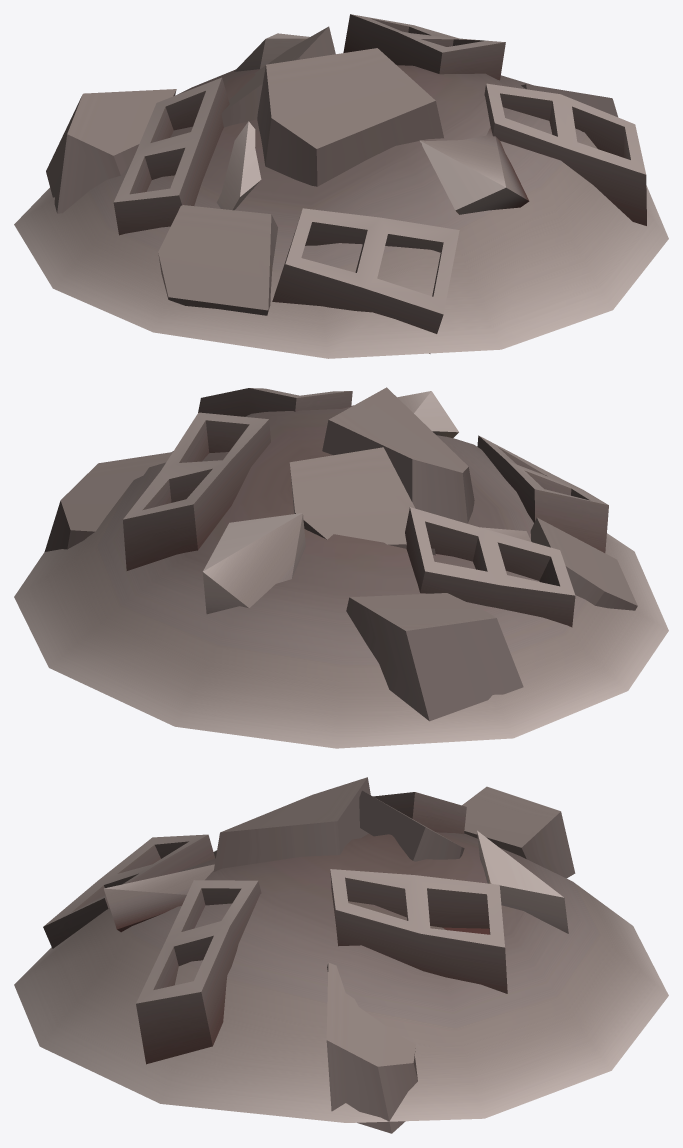
Rendered from SM_ConcreteDebris_01.fbx.
3 renders of one model, top to bottom at view 1: azimuth 30°, elevation 25°; view 2: azimuth 150°, elevation 25°; view 3: azimuth 270°, elevation 25°, orthographic. The views are drawn at different scales.
Parts seen in each view (by area): view 1: SM_ConcreteDebris_01; view 2: SM_ConcreteDebris_01; view 3: SM_ConcreteDebris_01.
Boxes of the visible parts, left/top/right/bottom form: SM_ConcreteDebris_01: left=14, top=14, right=668, bottom=358; SM_ConcreteDebris_01: left=14, top=387, right=668, bottom=748; SM_ConcreteDebris_01: left=14, top=777, right=668, bottom=1133.
Bounding box in the file's own units: 1.73 × 0.5474 × 1.7.
